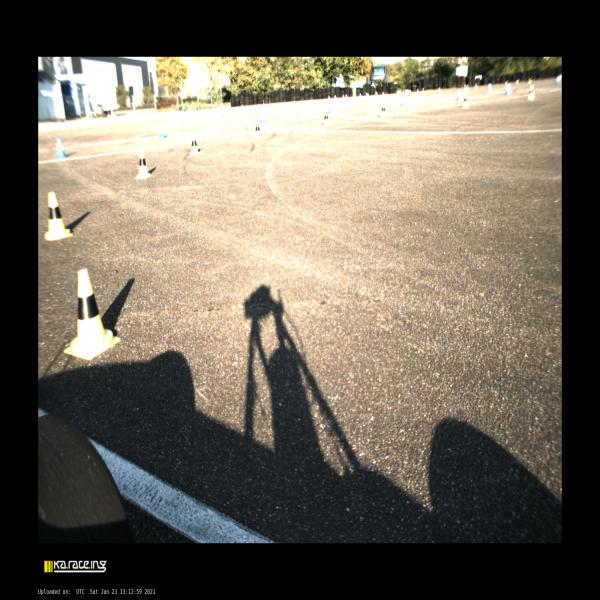blue_cone: (56, 138, 67, 158), (158, 122, 166, 138), (259, 111, 266, 123), (456, 88, 463, 100), (400, 94, 406, 106), (505, 84, 512, 94), (328, 104, 333, 114), (438, 86, 441, 94), (488, 83, 491, 90), (515, 79, 519, 84), (416, 88, 419, 94), (334, 94, 337, 100), (342, 94, 344, 101), (466, 84, 468, 90), (367, 92, 369, 98), (346, 94, 348, 100), (360, 93, 362, 98), (328, 95, 330, 100), (382, 92, 384, 95)
yellow_cone: (65, 269, 120, 359), (44, 192, 72, 241), (135, 149, 151, 179), (189, 132, 200, 156), (254, 121, 262, 139), (379, 102, 388, 118), (527, 85, 536, 100), (322, 112, 331, 126), (462, 93, 469, 108), (528, 76, 532, 84), (504, 81, 508, 88), (464, 84, 466, 92), (422, 88, 424, 95), (475, 83, 477, 89), (375, 91, 377, 97), (366, 92, 367, 98)
